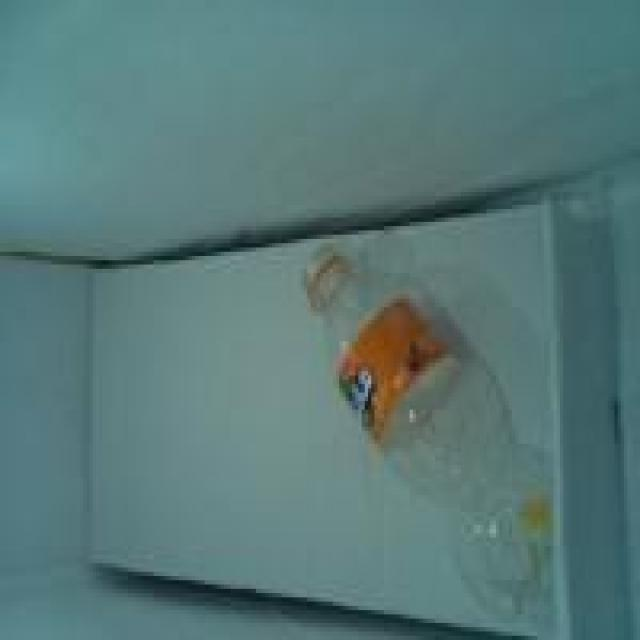bottle: (264, 198, 594, 640)
